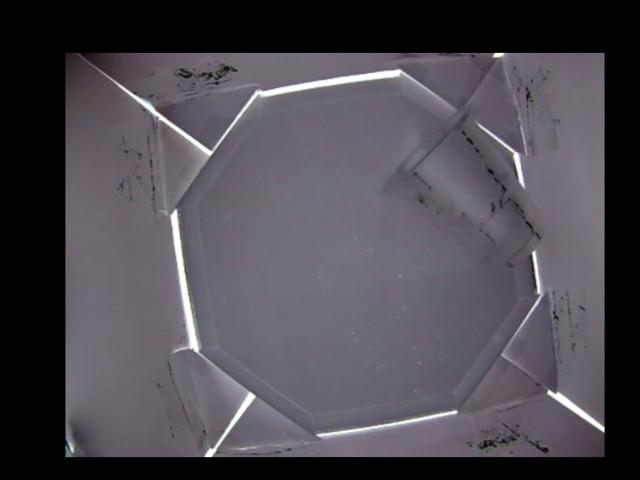Cup: (383, 104, 548, 267)
